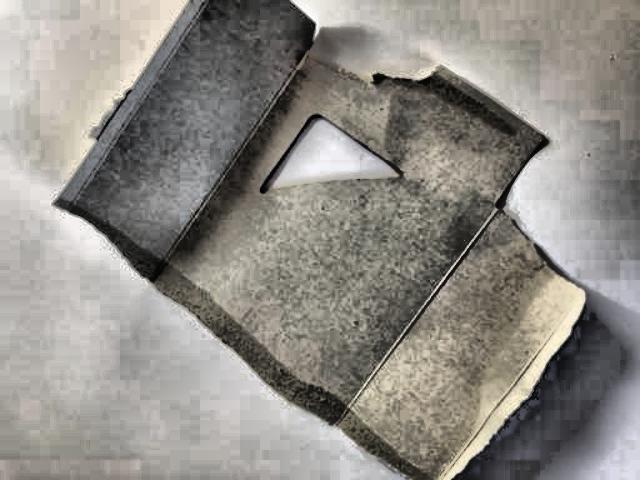Paper: (45, 6, 614, 480)
